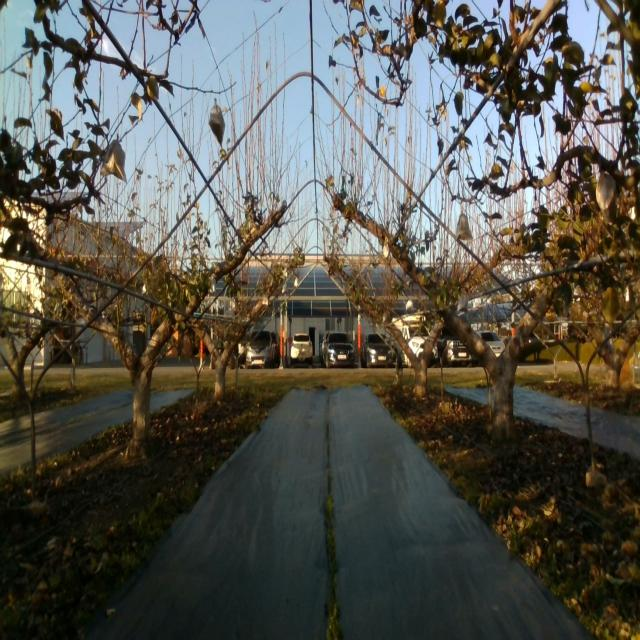pearbags: (100, 140, 127, 183), (596, 172, 616, 222), (209, 105, 225, 147), (457, 213, 473, 241), (457, 293, 468, 313)
